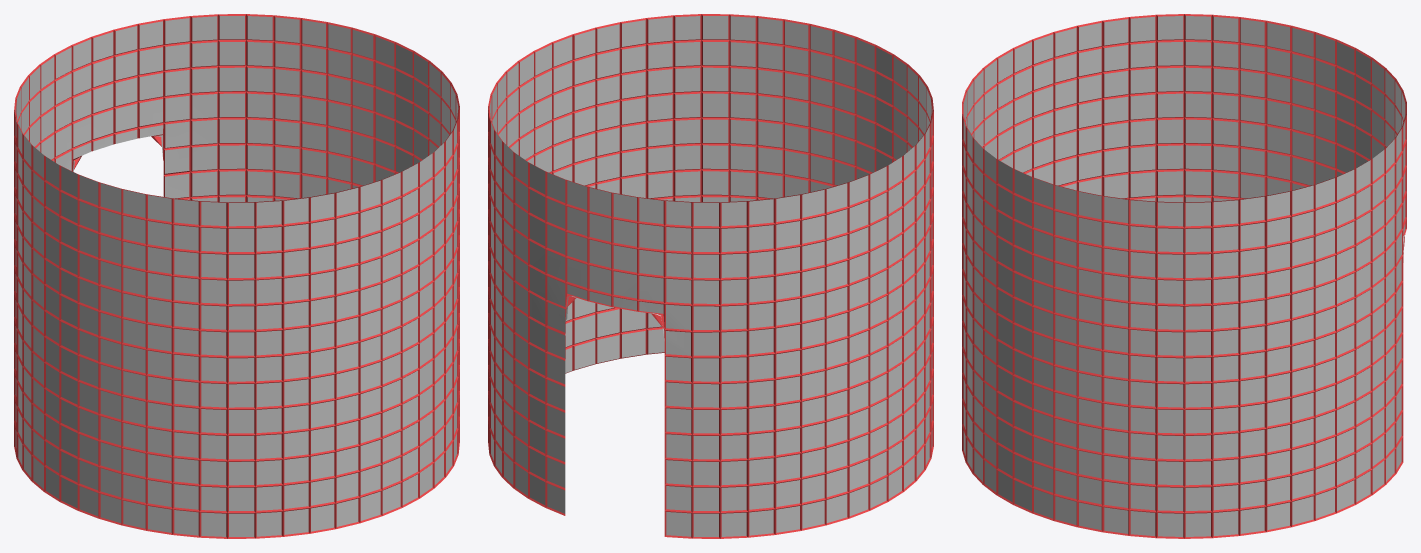
File: Bathroom_Wall_new.fbx
3 renders of one model, left to right at view 1: azimuth 30°, elevation 25°; view 2: azimuth 150°, elevation 25°; view 3: azimuth 270°, elevation 25°, orthographic.
Visible parts, largest first — view 1: bathroom_01; view 2: bathroom_01; view 3: bathroom_01.
Boxes of the visible parts, left/top/right/bottom form: bathroom_01: left=14, top=14, right=459, bottom=538; bathroom_01: left=488, top=14, right=933, bottom=538; bathroom_01: left=962, top=14, right=1406, bottom=538.
Size of the model in its own units: 300 by 250 by 299.
